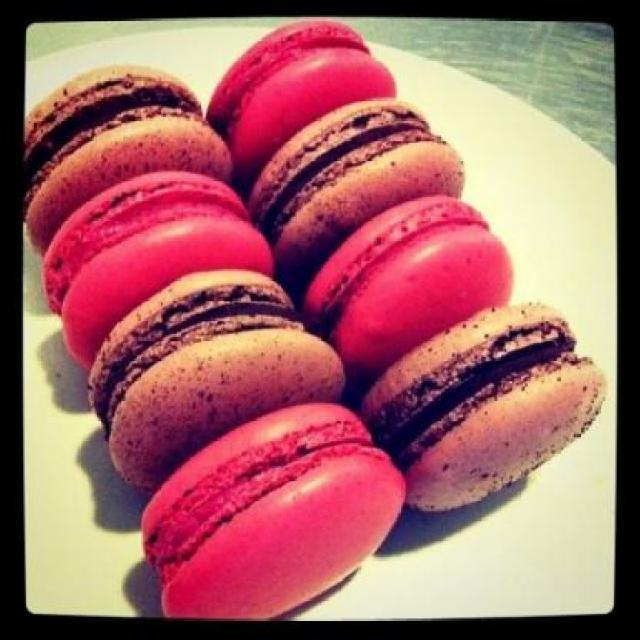Macaron: (34, 19, 612, 618)
